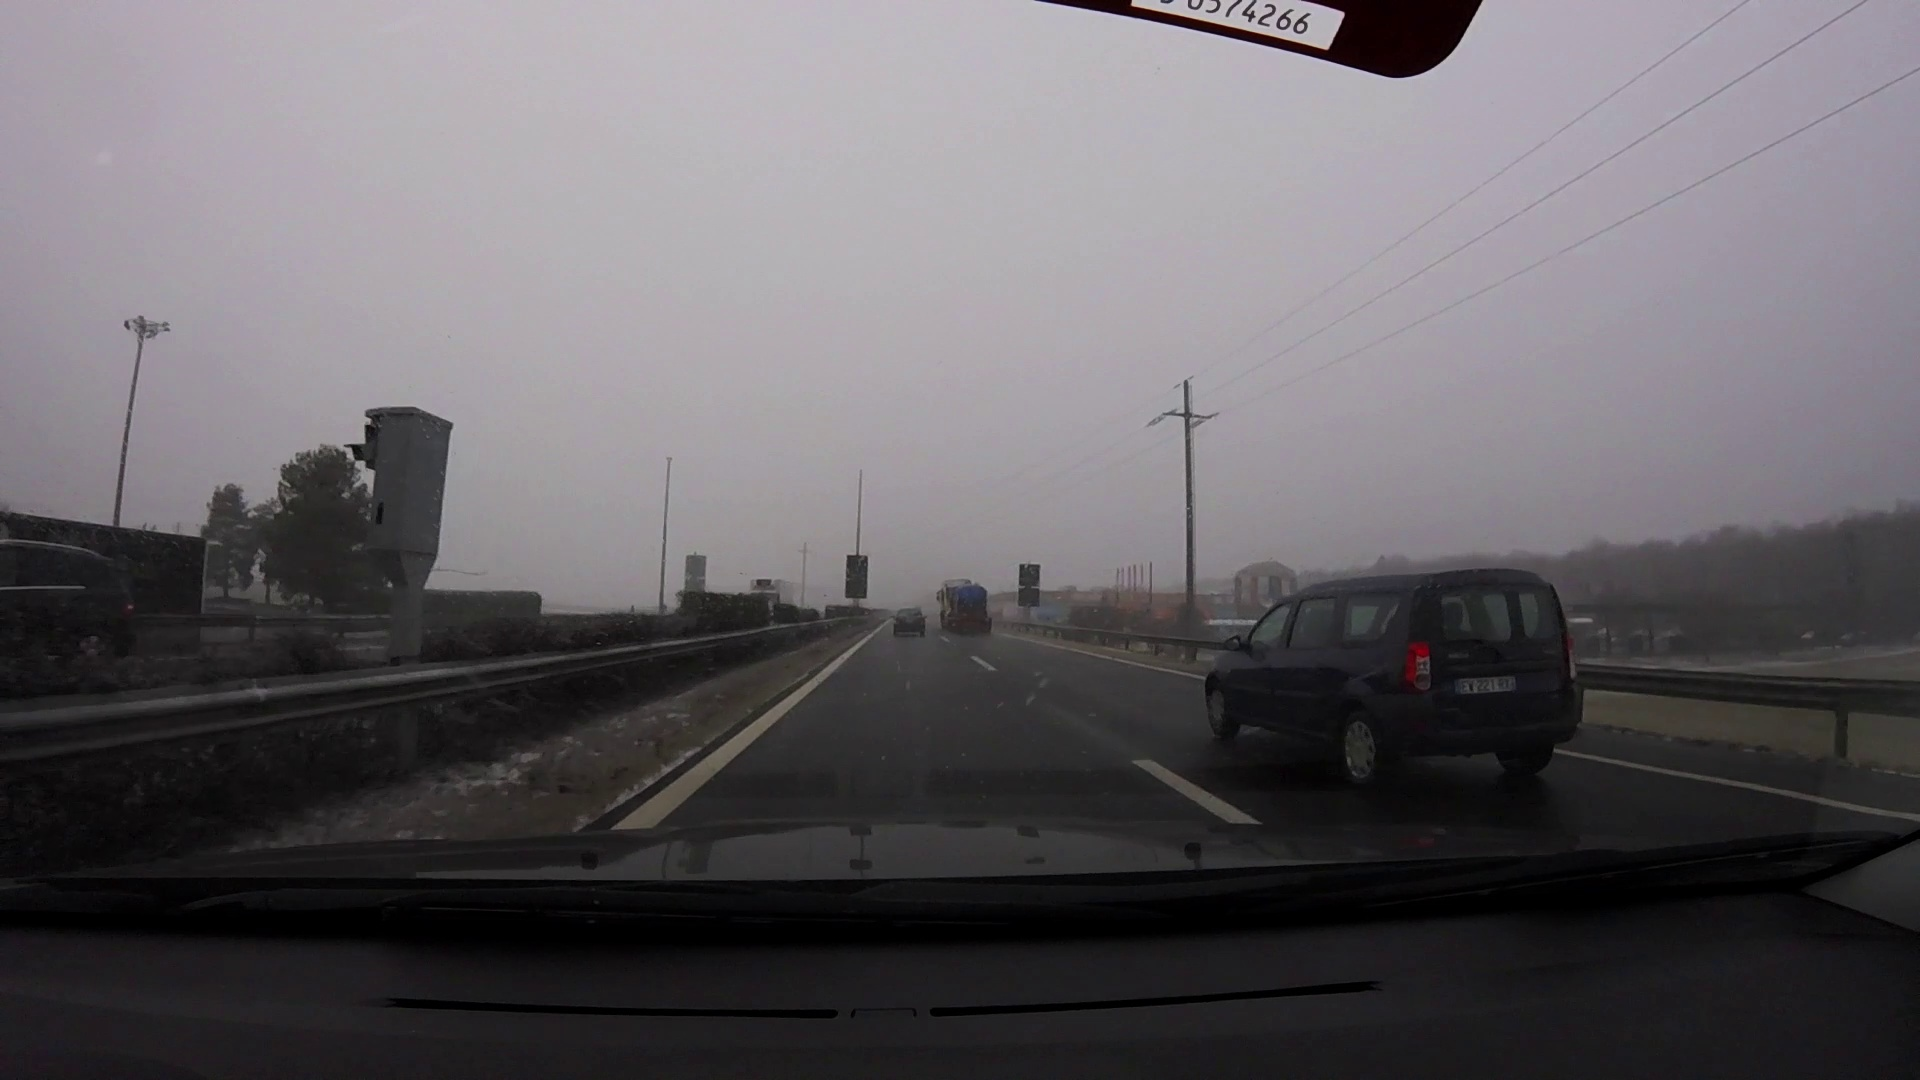radar: (343, 406, 458, 603)
